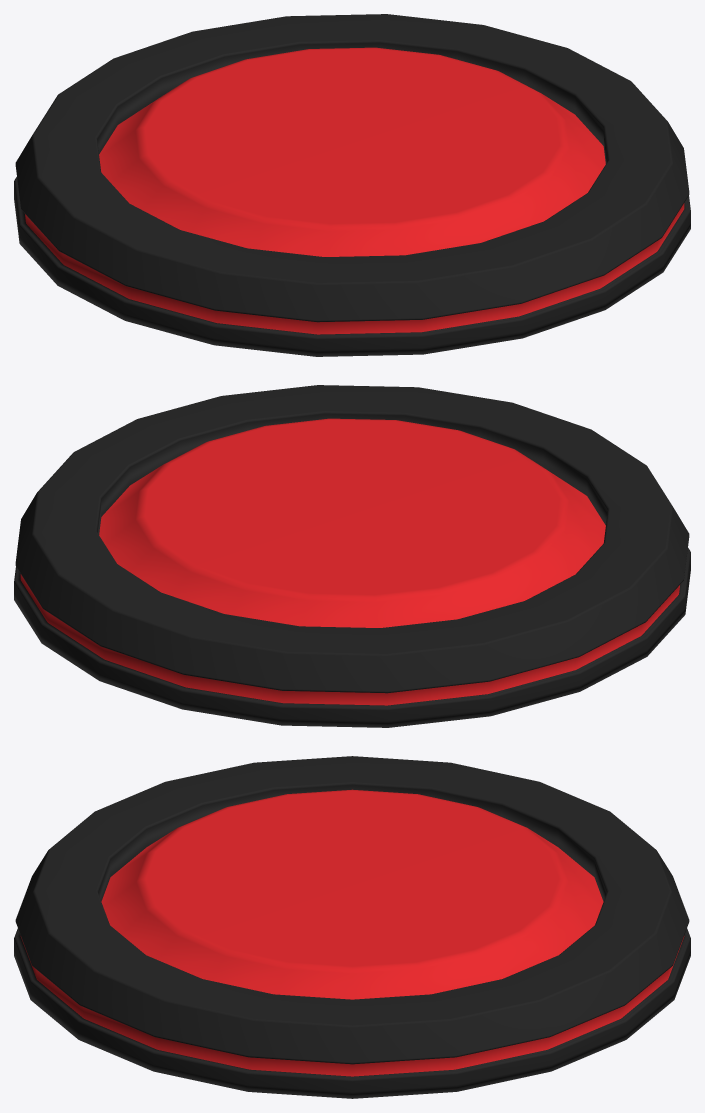
The model's file is redjump.fbx.
3 renders of one model, top to bottom at view 1: azimuth 30°, elevation 25°; view 2: azimuth 150°, elevation 25°; view 3: azimuth 270°, elevation 25°, orthographic.
Parts seen in each view (by area): view 1: pCylinder6; view 2: pCylinder6; view 3: pCylinder6.
Part boxes in pixels (x1=…): pCylinder6: x1=14, y1=14, x2=690, y2=356; pCylinder6: x1=14, y1=385, x2=690, y2=727; pCylinder6: x1=14, y1=756, x2=690, y2=1098.
Size of the model in its own units: 31.25 by 3.93 by 31.25.
2 materials, 1 textured.
